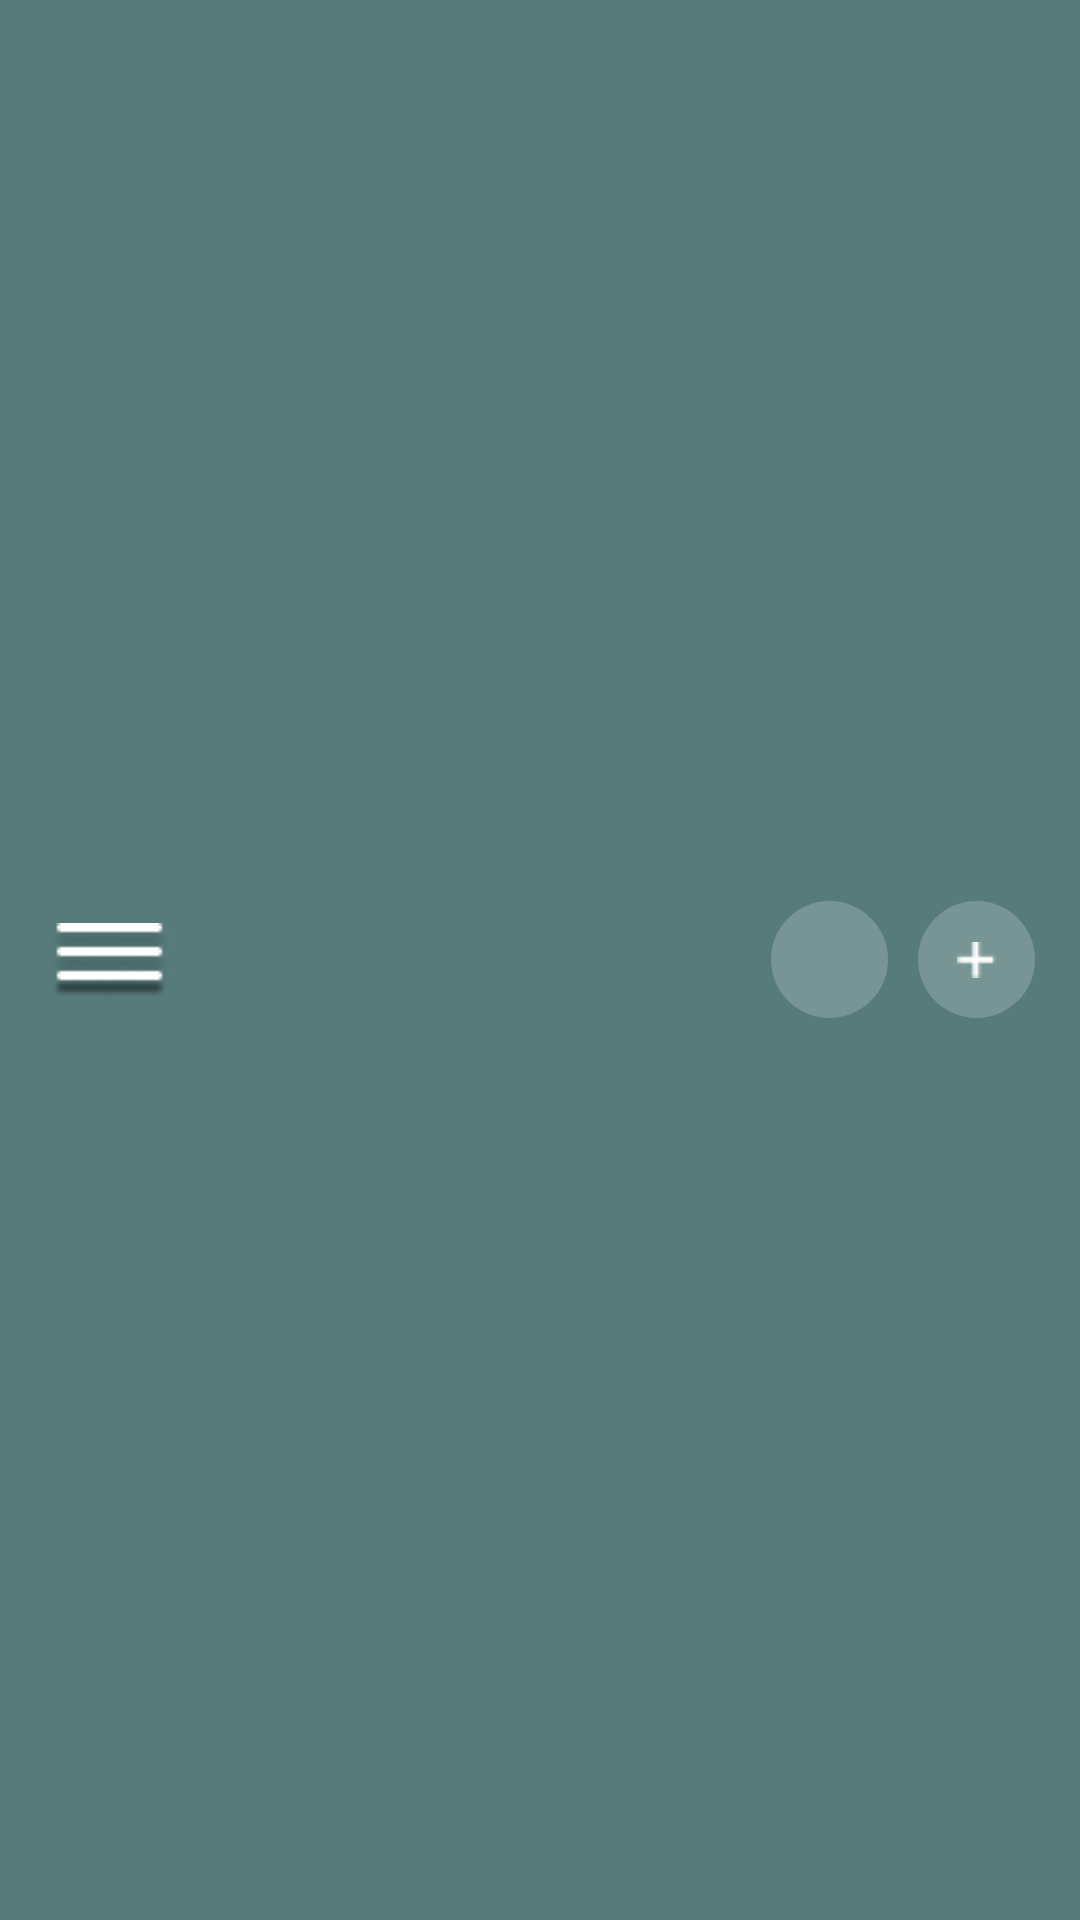

Icons on this 1080*1920 Android screen, each with the point to tap as [x,y]:
hamburger: [109,958]
